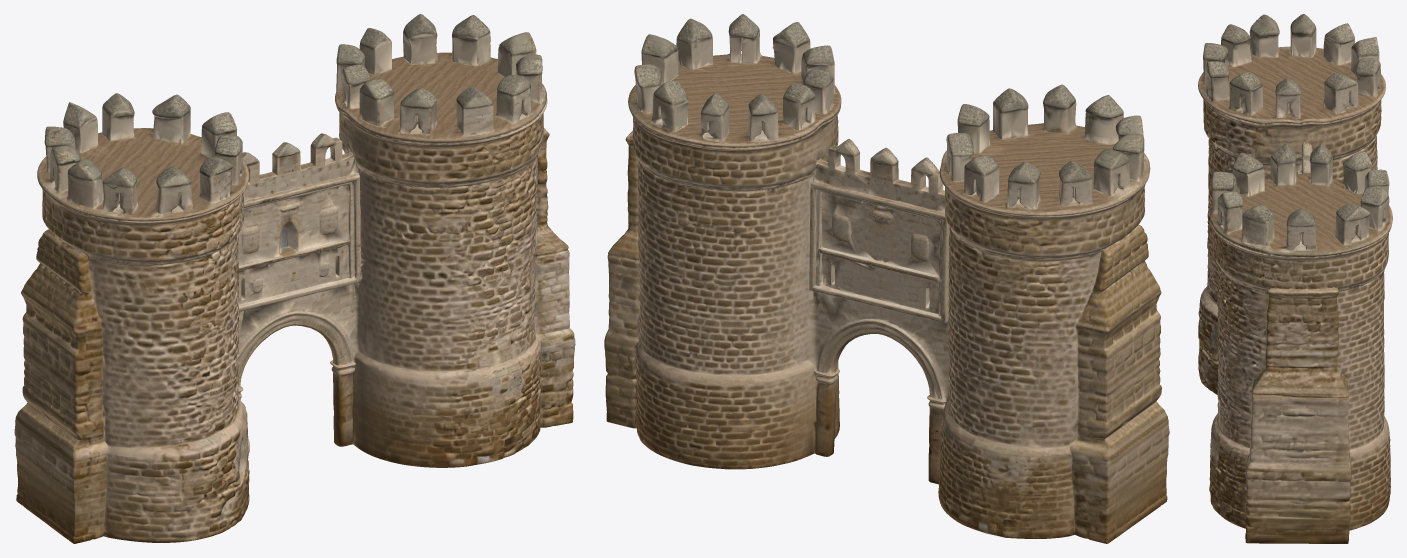
Rendered from stone_gate.glb.
3 views of the same model, side by side, from view 1: azimuth 30°, elevation 25°; view 2: azimuth 150°, elevation 25°; view 3: azimuth 270°, elevation 25° (orthographic). The views are drawn at different scales.
Visible parts, largest first — view 1: stone_gate; view 2: stone_gate; view 3: stone_gate.
Part boxes in pixels (<box>): stone_gate: <box>14,14,575,543</box>; stone_gate: <box>604,14,1169,543</box>; stone_gate: <box>1198,14,1392,543</box>.
Size of the model in its own units: 1.9 by 1.34 by 0.7282.
Materials: 1 (1 with a texture image).
